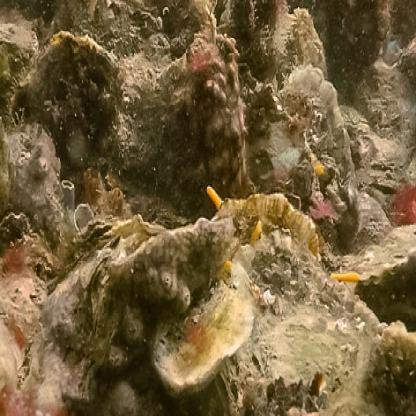Oyster- Indeterminate: (219, 239, 416, 416)
Oyster-Closed: (88, 220, 236, 372), (13, 33, 118, 201), (276, 68, 356, 234), (154, 268, 254, 394), (2, 125, 66, 249), (116, 46, 176, 166), (213, 196, 323, 259), (333, 224, 416, 293), (320, 189, 394, 260)
